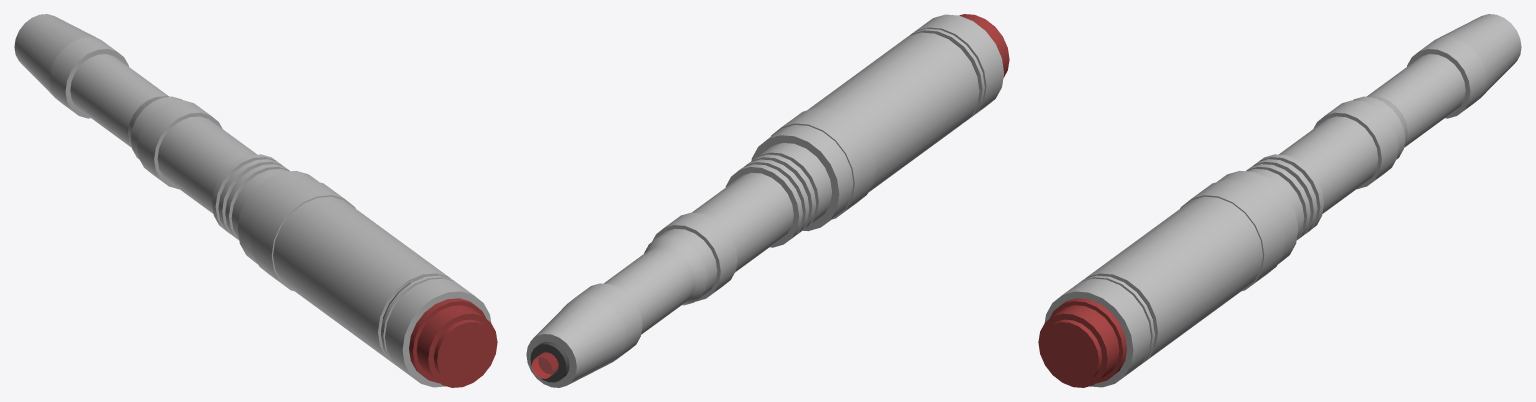
The picture shows the model from 3 angles, left to right: view 1: azimuth 30°, elevation 25°; view 2: azimuth 150°, elevation 25°; view 3: azimuth 330°, elevation 25°; orthographic projection.
Parts seen in each view (by area): view 1: Body3, Body4; view 2: Body3, Body1, Body4, Body2; view 3: Body3, Body4.
Boxes of the visible parts, bbox=[...] form: Body3: bbox=[14, 14, 491, 387]; Body4: bbox=[409, 298, 497, 387]; Body3: bbox=[526, 14, 1004, 387]; Body1: bbox=[530, 36, 979, 382]; Body4: bbox=[959, 14, 1009, 77]; Body2: bbox=[532, 352, 558, 378]; Body3: bbox=[1044, 14, 1521, 387]; Body4: bbox=[1038, 298, 1126, 387].
Bounding box in the file's own units: 0.0205 × 0.0205 × 0.168.
